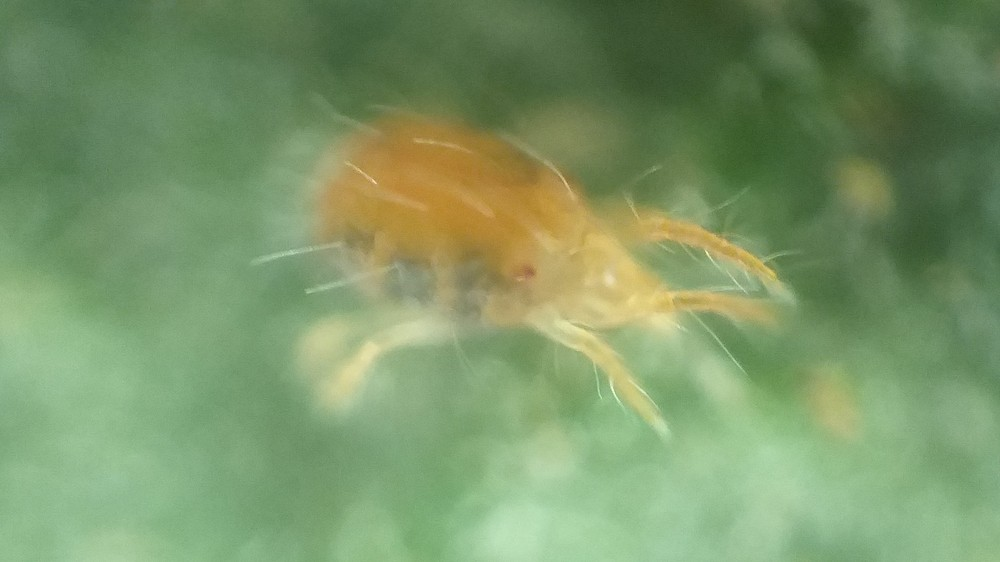Aracnido Rojo: (248, 79, 828, 456)
